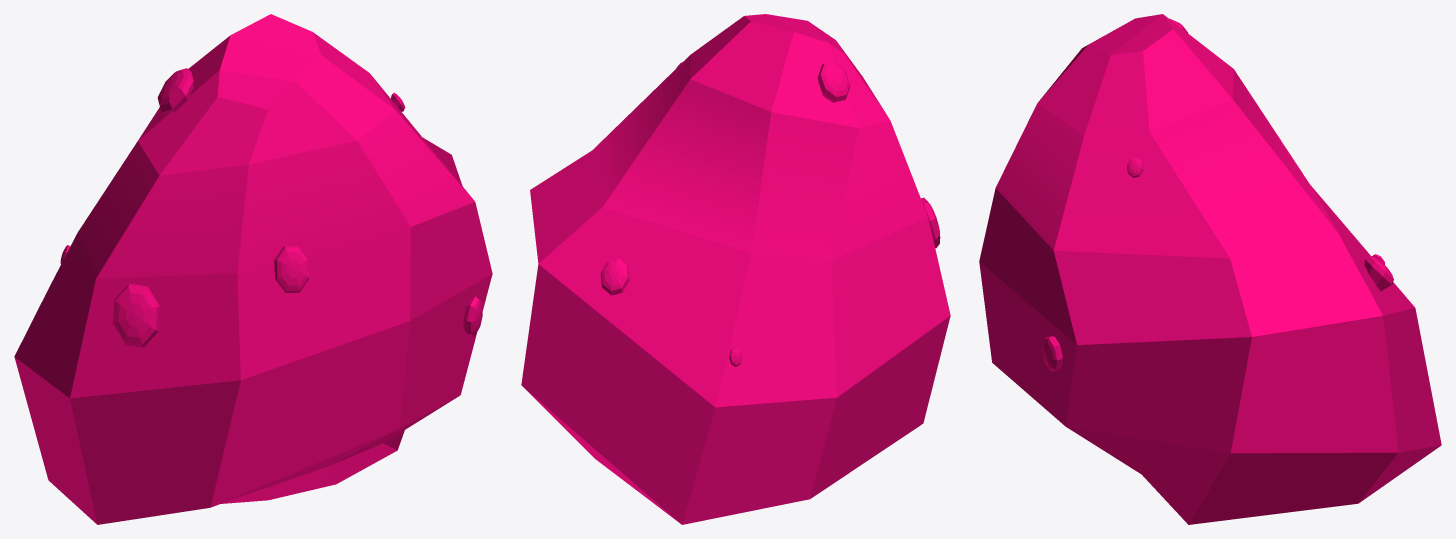
File: SM_SS_Bush_2.fbx
3 renders of one model, left to right at view 1: azimuth 30°, elevation 25°; view 2: azimuth 150°, elevation 25°; view 3: azimuth 270°, elevation 25°, orthographic. The views are drawn at different scales.
Parts seen in each view (by area): view 1: SM_SS_Bush_2; view 2: SM_SS_Bush_2; view 3: SM_SS_Bush_2.
Boxes of the visible parts, x1=… form: SM_SS_Bush_2: x1=14, y1=14, x2=492, y2=524; SM_SS_Bush_2: x1=521, y1=14, x2=950, y2=524; SM_SS_Bush_2: x1=979, y1=14, x2=1441, y2=524.
Bounding box in the file's own units: 47.15 × 46.37 × 51.73.
